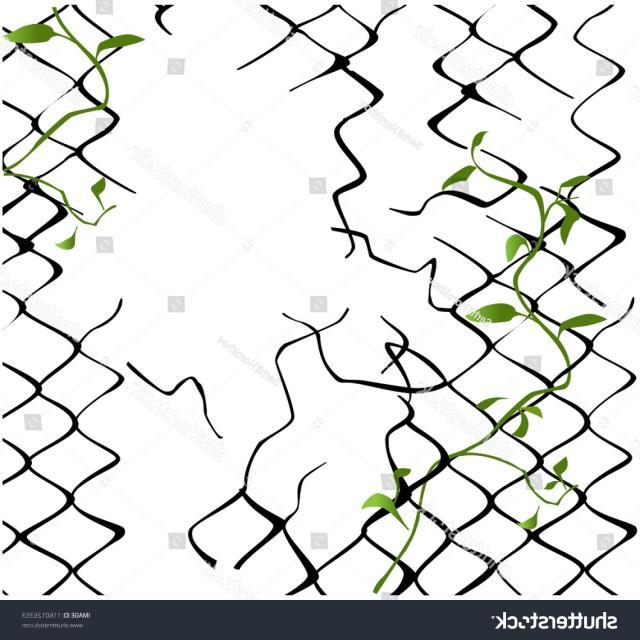fence line: (61, 27, 440, 563)
